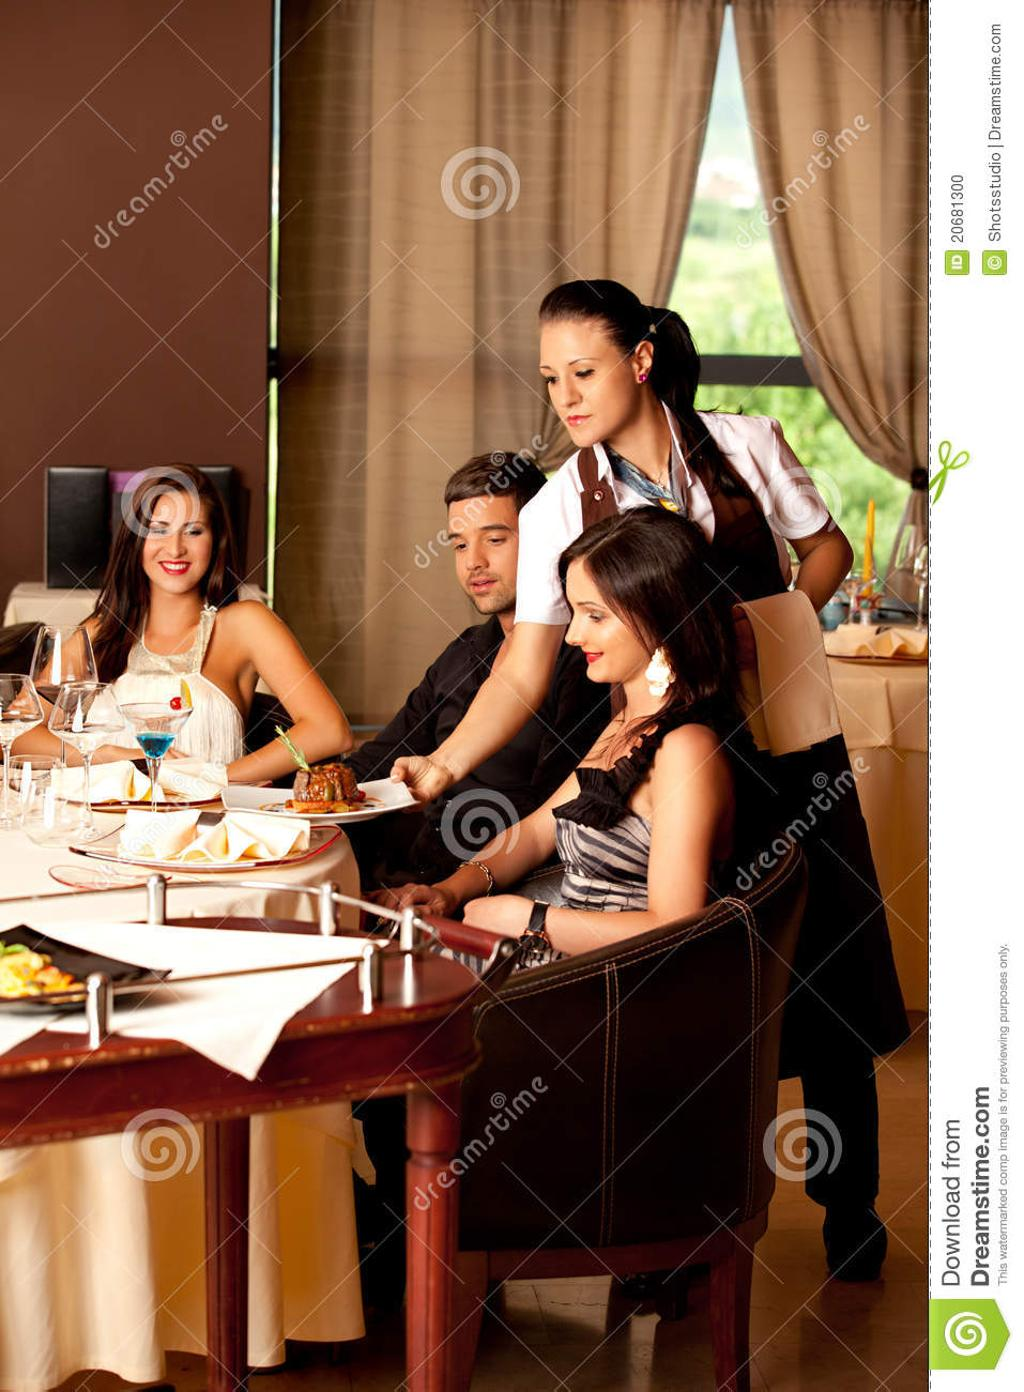face: (535, 312, 633, 445), (565, 562, 657, 679), (448, 492, 535, 614), (144, 489, 209, 589)
